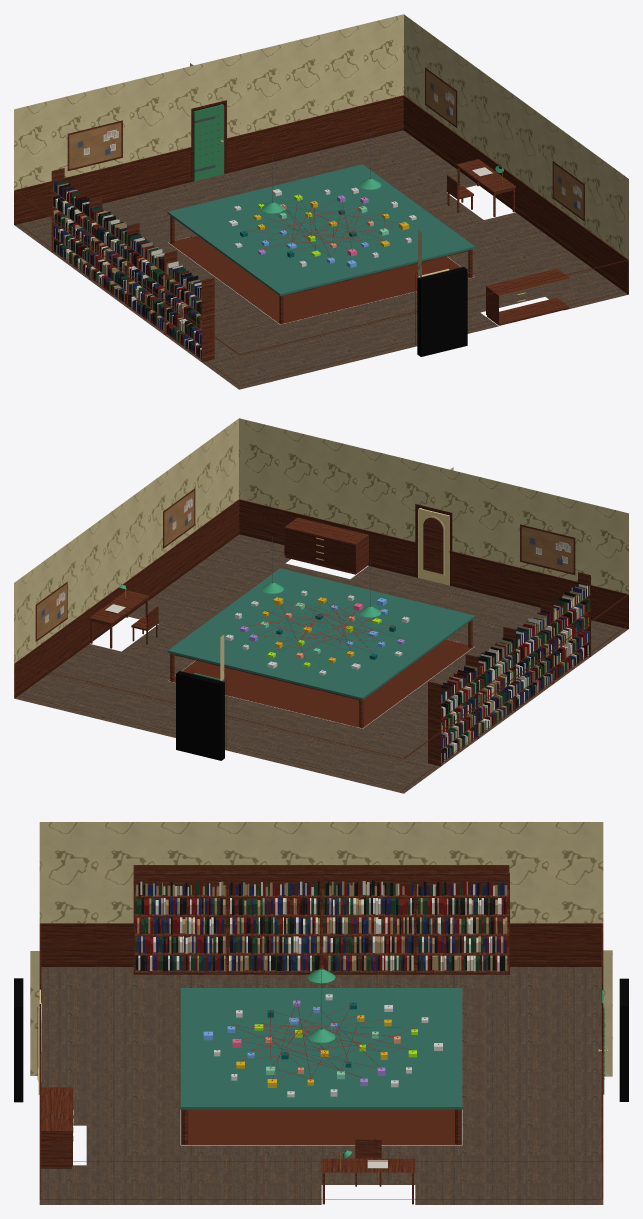
File: rdwe_map_room.glb
3 views of the same model, one above another, from view 1: azimuth 30°, elevation 25°; view 2: azimuth 150°, elevation 25°; view 3: azimuth 270°, elevation 25° (orthographic). The views are drawn at different scales.
Parts seen in each view (by area): view 1: Paper_Map, Floor_Oak, Felt_Green, Wood_Dark, Panel_Dark, Paint_Palette, Trim_Dark, Void_Black, Pinboard, DoorLeaf_door; view 2: Paper_Map, Floor_Oak, Felt_Green, Wood_Dark, Paint_Palette, Panel_Dark, Trim_Dark, Void_Black, Pinboard, DoorLeaf_lift; view 3: Floor_Oak, Paper_Map, Wood_Dark, Paint_Palette, Felt_Green, Panel_Dark, Trim_Dark, Void_Black, Shade_Green.
Part boxes in pixels (box(x1,y1,x2,y2)): Paper_Map: box(14, 14, 628, 294); Floor_Oak: box(14, 130, 627, 389); Felt_Green: box(167, 164, 475, 295); Wood_Dark: box(51, 67, 584, 361); Panel_Dark: box(14, 97, 628, 355); Paint_Palette: box(53, 167, 502, 358); Trim_Dark: box(14, 95, 628, 385); Void_Black: box(194, 103, 467, 356); Pinboard: box(69, 70, 583, 218); DoorLeaf_door: box(194, 104, 223, 180); Paper_Map: box(14, 418, 628, 698); Floor_Oak: box(15, 534, 628, 793); Felt_Green: box(167, 568, 475, 699); Wood_Dark: box(35, 488, 590, 766); Paint_Palette: box(105, 583, 589, 762); Panel_Dark: box(14, 501, 628, 759); Trim_Dark: box(14, 499, 628, 789); Void_Black: box(176, 507, 449, 760); Pinboard: box(37, 491, 573, 639); DoorLeaf_lift: box(418, 508, 449, 585); Floor_Oak: box(39, 967, 603, 1204); Paper_Map: box(30, 822, 612, 1076); Wood_Dark: box(39, 865, 603, 1204); Paint_Palette: box(135, 880, 507, 1168); Felt_Green: box(180, 988, 462, 1109); Panel_Dark: box(39, 926, 603, 1161); Trim_Dark: box(39, 923, 603, 1199); Void_Black: box(14, 978, 628, 1102); Shade_Green: box(307, 968, 351, 1158).
Size of the model in its own units: 12 by 3.45 by 13.1.
16 materials, 10 textured.
